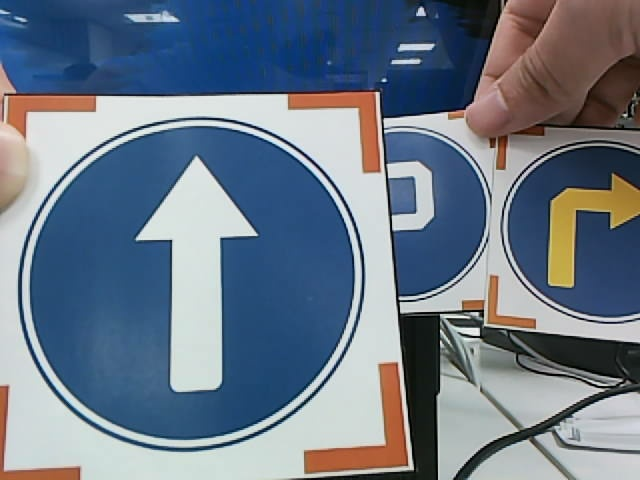go: (17, 117, 366, 452)
park: (380, 125, 491, 302)
right: (501, 140, 640, 325)
